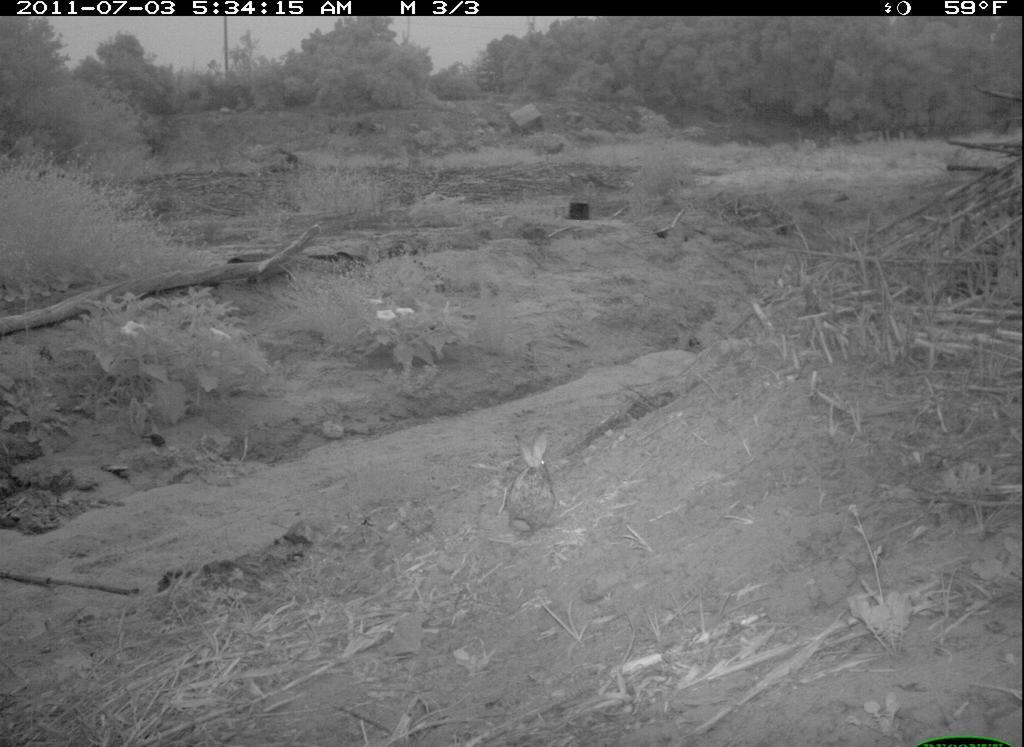rabbit: (500, 424, 560, 540)
